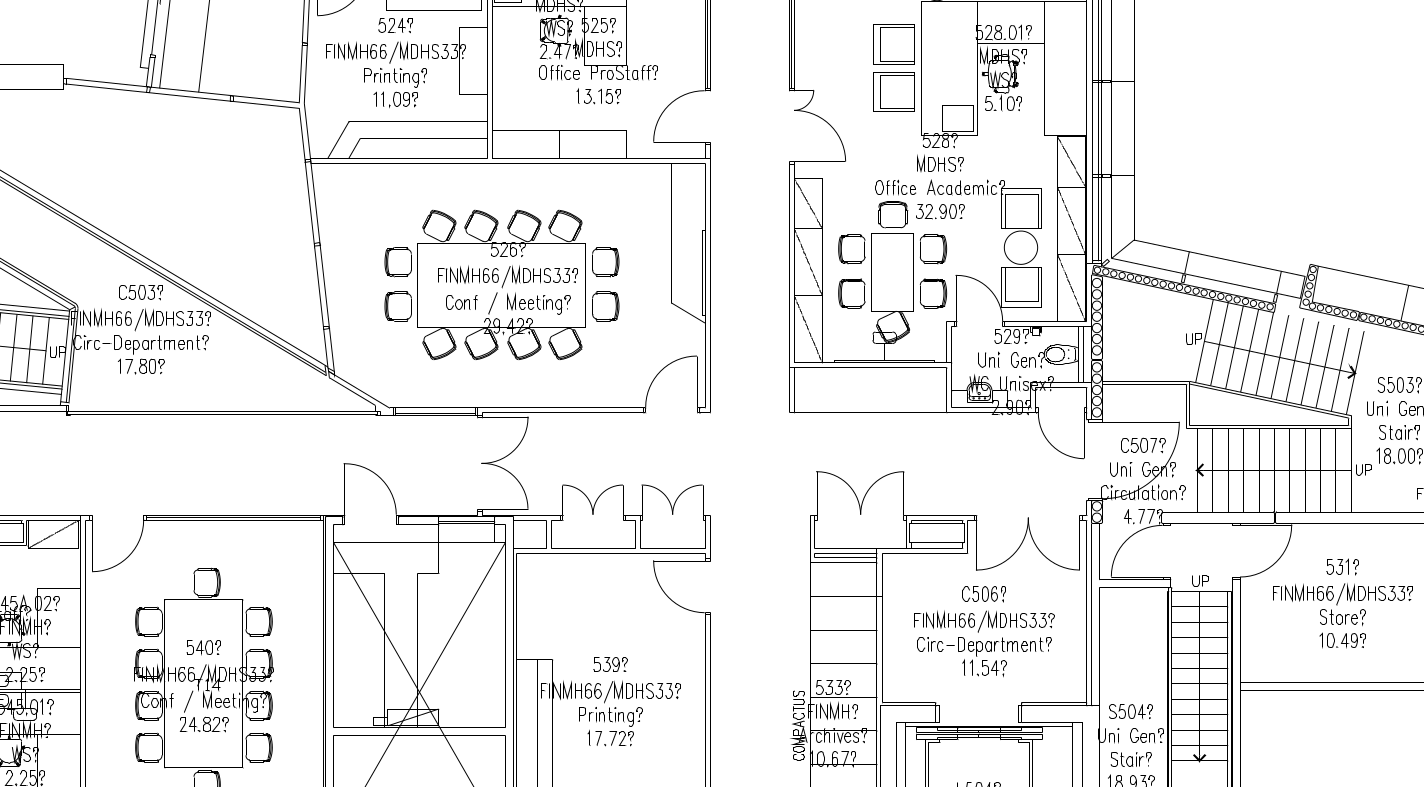door: (974, 510, 1084, 577), (813, 455, 909, 521), (1103, 417, 1180, 496), (474, 414, 534, 513), (788, 86, 854, 166), (650, 83, 713, 151), (639, 346, 702, 414), (339, 458, 405, 522), (88, 517, 154, 581), (640, 557, 706, 621), (556, 473, 631, 526), (634, 471, 709, 524), (1035, 405, 1093, 469), (1108, 516, 1166, 579), (1238, 524, 1296, 587), (952, 271, 1005, 331)
